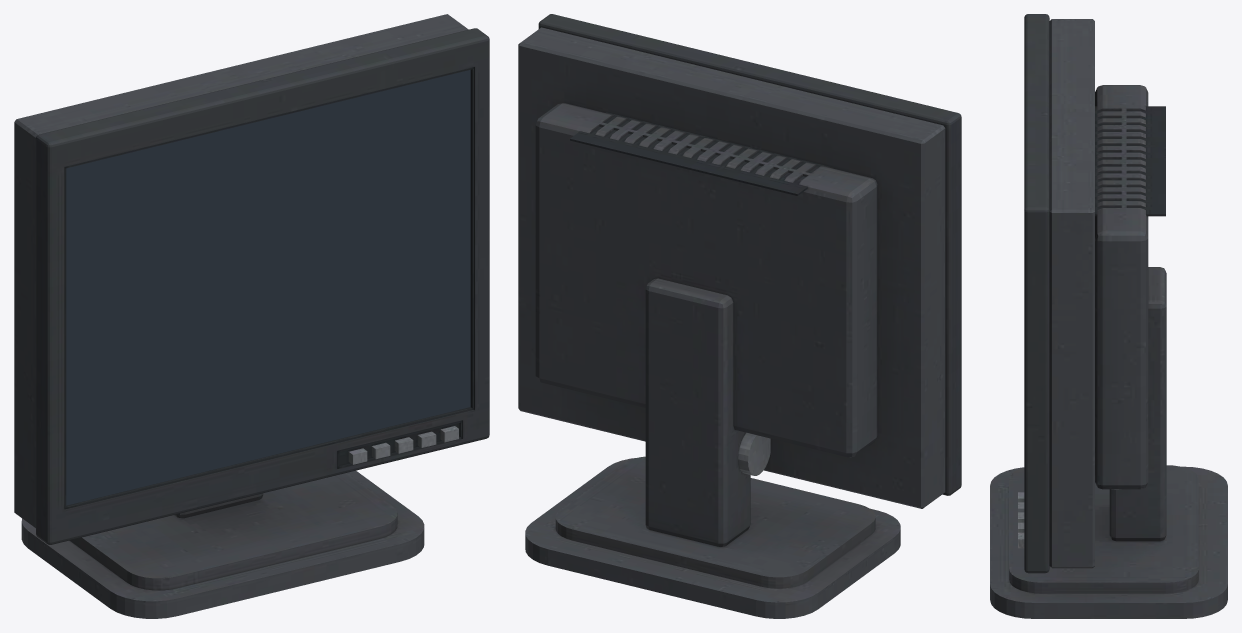
Rendered from lcd-c.glb.
3 renders of one model, left to right at view 1: azimuth 30°, elevation 25°; view 2: azimuth 150°, elevation 25°; view 3: azimuth 270°, elevation 25°, orthographic. The views are drawn at different scales.
Visible parts, largest first — view 1: glass, case-baked; view 2: case-baked; view 3: case-baked.
Part boxes in pixels (x1,y1,x2,y2): glass: (66,70,470,505); case-baked: (14,14,489,618); case-baked: (518,14,961,618); case-baked: (990,14,1227,618).
Bounding box in the file's own units: 0.367 × 0.384 × 0.188.
2 materials, 1 textured.
